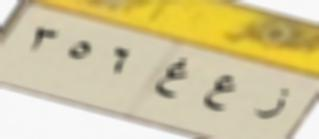3: (30, 23, 58, 56)
5: (67, 35, 94, 68)
ain: (201, 71, 239, 115)
ghayn: (154, 53, 189, 106), (107, 43, 133, 79)
zay: (253, 80, 290, 127)
